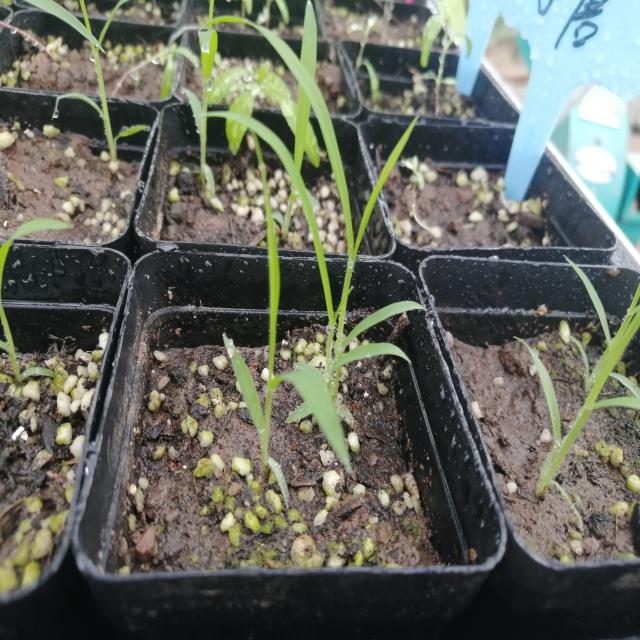crabgrass: (221, 126, 390, 465)
